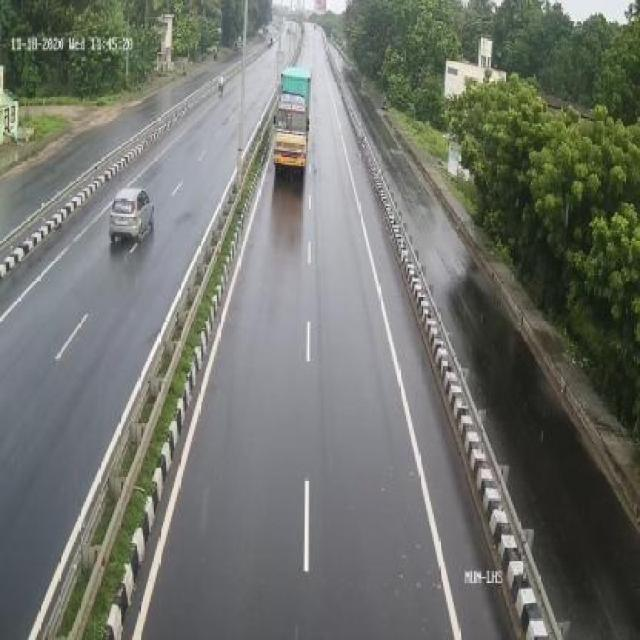car: (111, 189, 160, 248)
